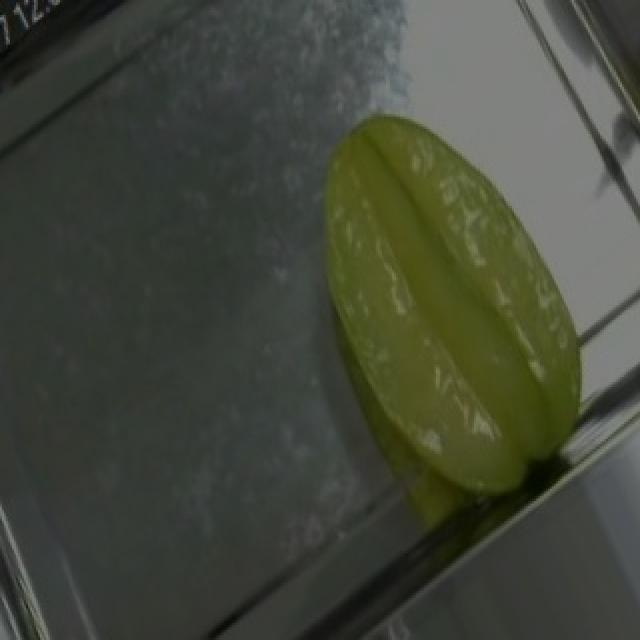fruit: (264, 77, 640, 503)
